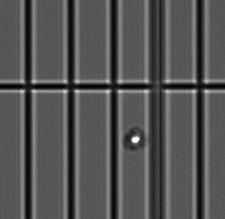Living Cell: (123, 125, 146, 150)
